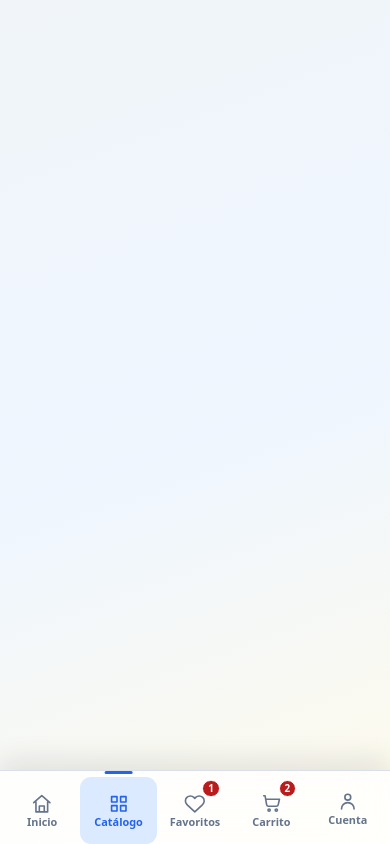
Test: MobileBottomNav › abre las opciones de la cuenta iniciada
Click the button "Cuenta" at (348, 808), box [310,777,386,839]
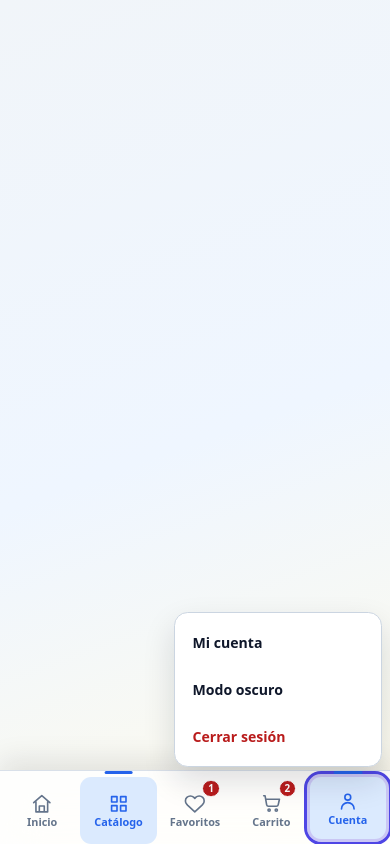
Result: the button "Cerrar sesión" is shown at [182,714,374,758]
